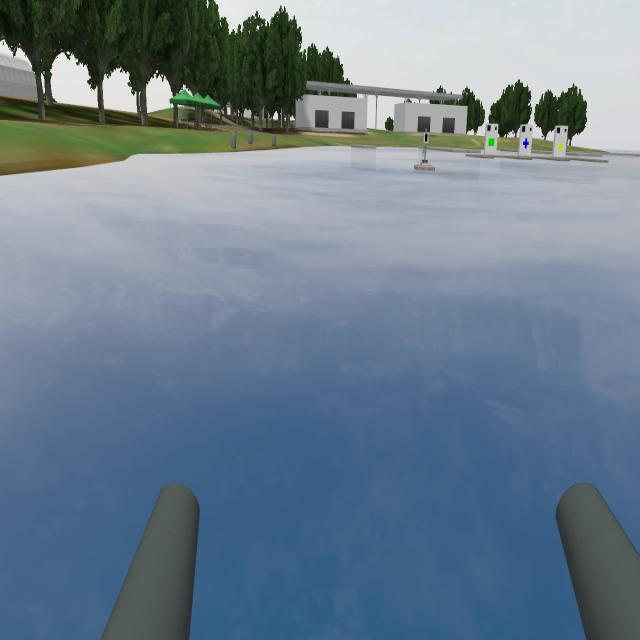black_pole: (419, 124, 434, 152)
